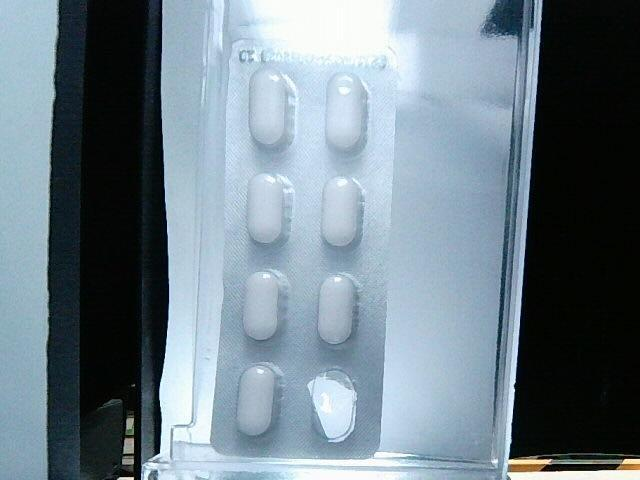Light Front: (211, 40, 396, 458)
No Pill Front: (305, 365, 361, 445)
Pill Front: (245, 60, 298, 153), (313, 267, 363, 353), (243, 166, 296, 246), (233, 360, 283, 436), (325, 69, 368, 155), (320, 174, 367, 247), (246, 265, 289, 343)
